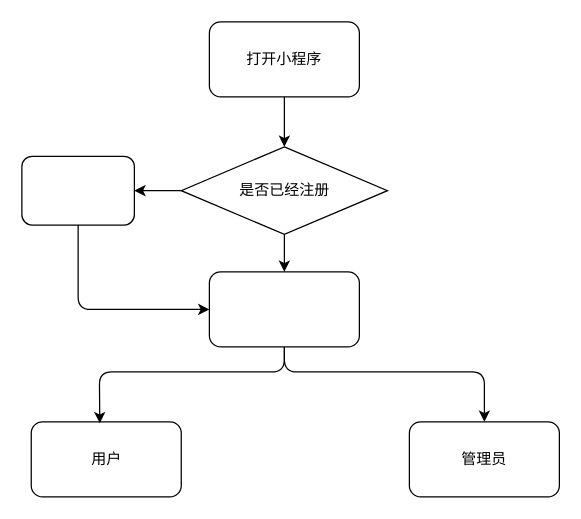
The diagram is 581 pixels wide and 519 high, and some of its shapes have lost their labels. The centre of each missing label's shape, as x and y in pixels:
注册: point (77, 190)
账号登陆: point (283, 309)
